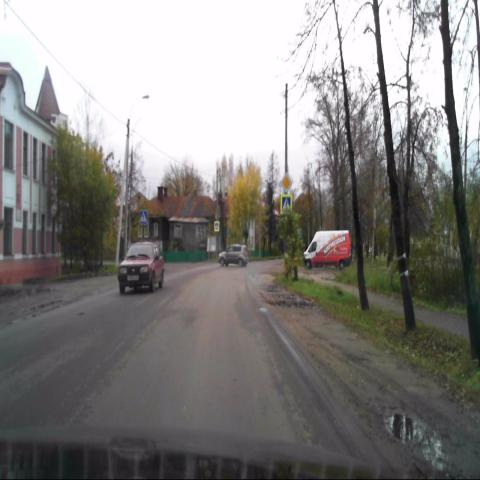2_1: (280, 173, 292, 193)
5_19_1: (280, 196, 292, 215), (139, 209, 147, 225)
